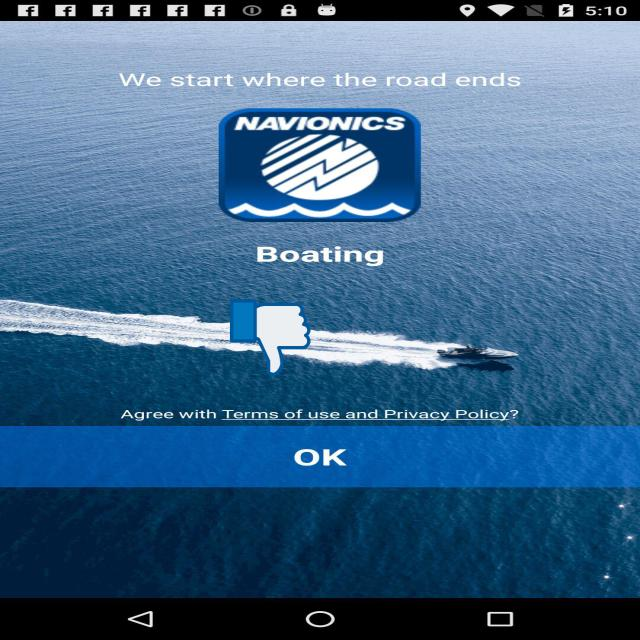obstruction: (230, 298, 310, 378)
